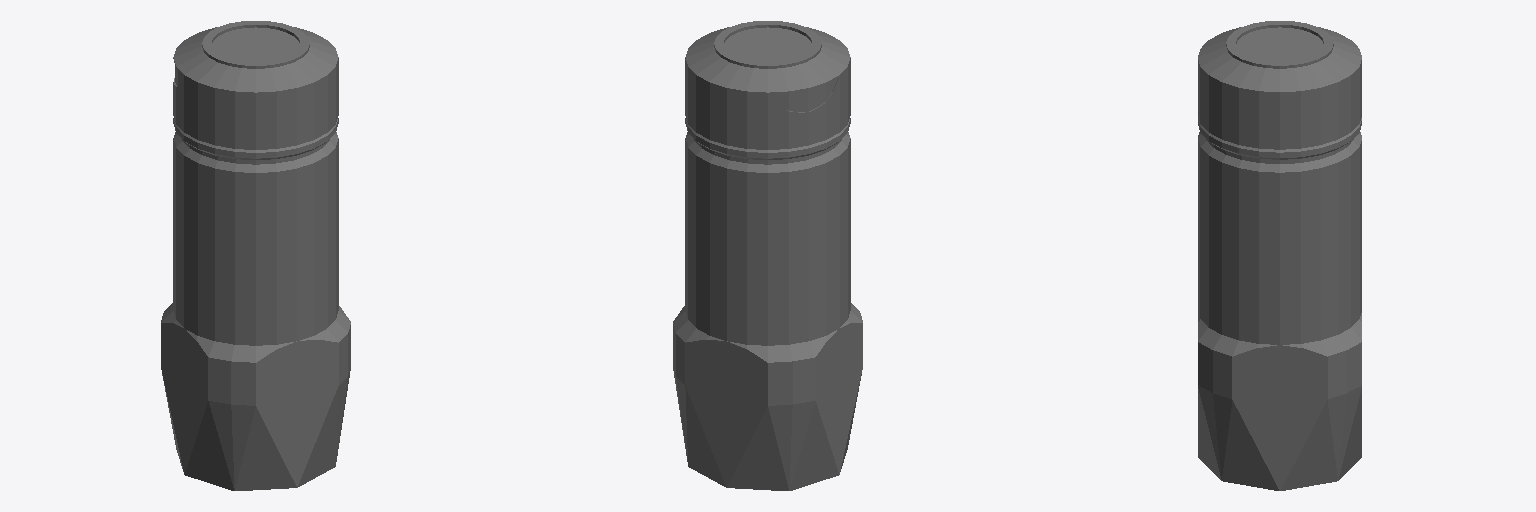
robot.urdf — object:
<?xml version="1.0"?>
<robot name="object">
  <link name="object">
    <visual>
      <origin xyz="0 0 0"/>
      <geometry>
        <mesh
          filename="../../mesh/oakink_virtual/cylinder_bottle_s525.stl" />
      </geometry>
      <material name="mat">
        <color rgba="0.5 0.5 0.5 1"/>
      </material>
    </visual>

    <collision>
      <origin xyz="0 0 0"/>
      <geometry>
        <mesh
          filename="../../mesh/oakink_virtual/cylinder_bottle_s525.stl" />
      </geometry>
    </collision>
  </link>
</robot>

--- Render facts (derived) ---
The picture shows the robot from 3 angles, left to right: view 1: azimuth 30°, elevation 25°; view 2: azimuth 150°, elevation 25°; view 3: azimuth 270°, elevation 25°; orthographic projection.
Model object with 1 links and 0 joints (none), rooted at object, posed every joint at zero.
Links seen in each view (by area): view 1: object; view 2: object; view 3: object.
Link boxes in pixels (x1,y1,x2,y2): object: (161,21,350,490); object: (673,21,862,490); object: (1198,21,1361,490).
Bounding box of the posed robot: 0.0565 × 0.0565 × 0.1564 m (x, y, z).
Meshes: 1 distinct files referenced, 1 mesh visuals loaded (1 binary STL).